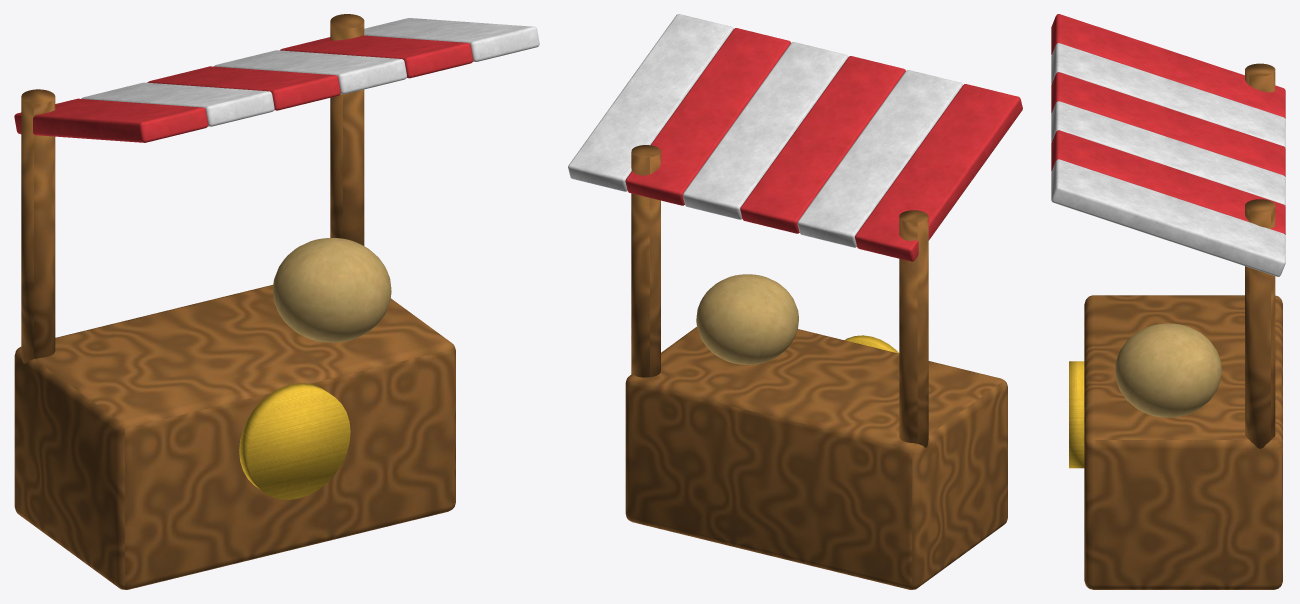
Rendered from shop.glb.
3 views of the same model, side by side, from view 1: azimuth 30°, elevation 25°; view 2: azimuth 150°, elevation 25°; view 3: azimuth 270°, elevation 25° (orthographic). The views are drawn at different scales.
Parts seen in each view (by area): view 1: Counter, Posts, Coin, Bag, Awning0, Awning1, Awning2, Awning3, Awning5, Awning4; view 2: Counter, Posts, Awning0, Awning3, Awning2, Awning1, Awning5, Awning4, Bag; view 3: Counter, Awning5, Bag, Awning3, Awning2, Awning1, Posts, Awning0, Awning4, Coin.
Boxes of the visible parts, <box> form: Counter: <box>14,285,455,589</box>; Posts: <box>21,14,364,363</box>; Coin: <box>239,383,350,499</box>; Bag: <box>273,238,391,342</box>; Awning0: <box>14,98,208,142</box>; Awning1: <box>81,82,274,126</box>; Awning2: <box>147,66,340,110</box>; Awning3: <box>213,50,406,94</box>; Awning5: <box>364,18,539,61</box>; Awning4: <box>280,35,473,78</box>; Counter: <box>625,327,1007,589</box>; Posts: <box>631,145,928,447</box>; Awning0: <box>855,84,1022,261</box>; Awning3: <box>683,42,848,219</box>; Awning2: <box>740,56,905,233</box>; Awning1: <box>797,70,962,247</box>; Awning5: <box>568,14,733,191</box>; Awning4: <box>625,28,790,205</box>; Bag: <box>696,274,798,364</box>; Counter: <box>1084,295,1282,589</box>; Awning5: <box>1051,159,1285,276</box>; Bag: <box>1115,323,1221,417</box>; Awning3: <box>1051,101,1285,205</box>; Awning2: <box>1051,72,1285,176</box>; Awning1: <box>1051,43,1285,147</box>; Posts: <box>1245,63,1275,448</box>; Awning0: <box>1051,14,1285,118</box>; Awning4: <box>1051,130,1285,234</box>; Coin: <box>1069,361,1084,468</box>.
Bounding box in the file's own units: 0.545 × 0.6254 × 0.3068.
5 materials, 5 textured.
